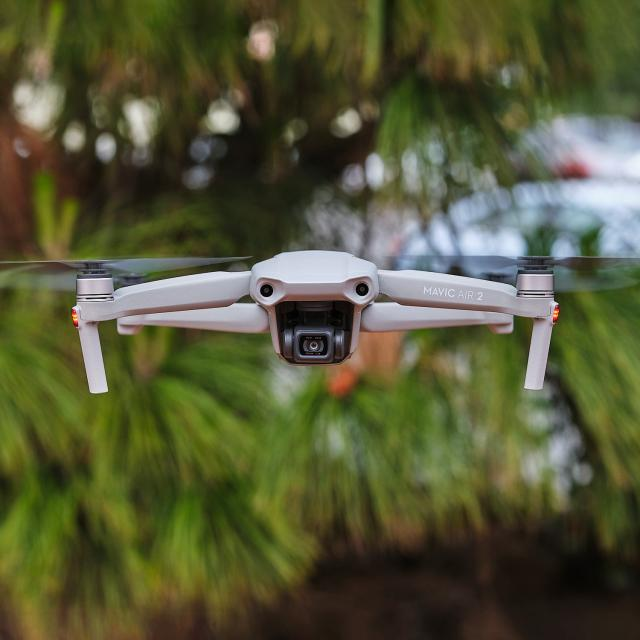drone: (18, 215, 588, 421)
